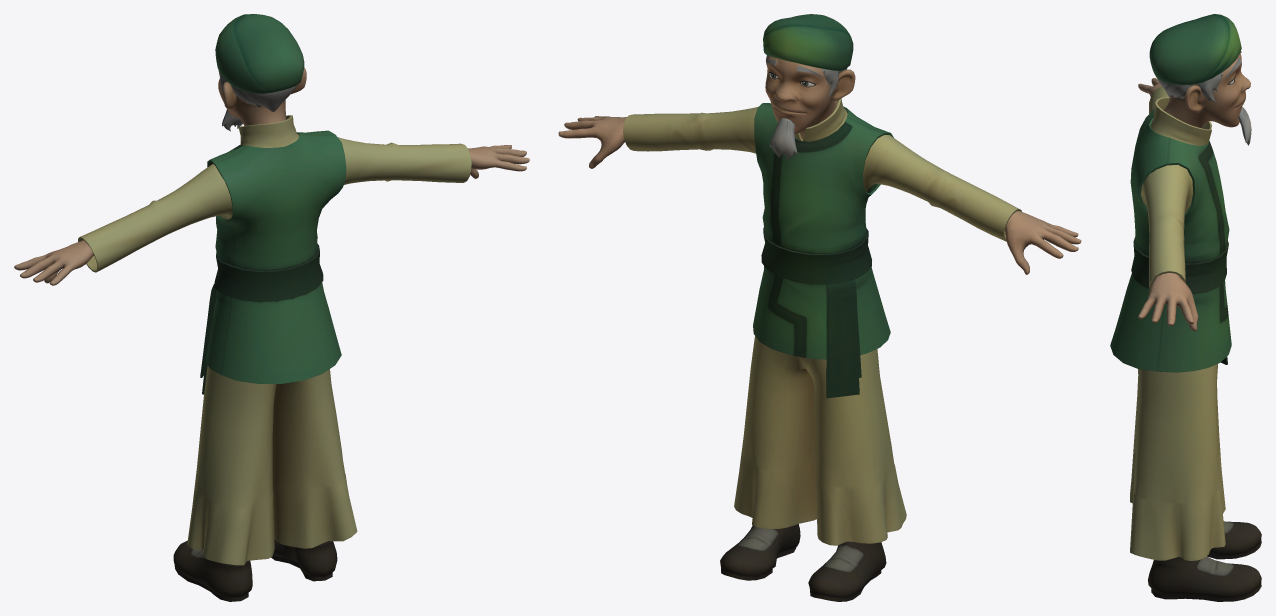
Rendered from CabbageMan.fbx.
The picture shows the model from 3 angles, left to right: view 1: azimuth 30°, elevation 25°; view 2: azimuth 150°, elevation 25°; view 3: azimuth 270°, elevation 25°; orthographic projection.
Visible parts, largest first — view 1: Cabbage Merchant; view 2: Cabbage Merchant; view 3: Cabbage Merchant.
Part boxes in pixels (x1,y1,x2,y2): Cabbage Merchant: [14, 14, 529, 601]; Cabbage Merchant: [558, 14, 1081, 601]; Cabbage Merchant: [1110, 14, 1261, 601].
Bounding box in the file's own units: 176 × 183 × 45.62.
